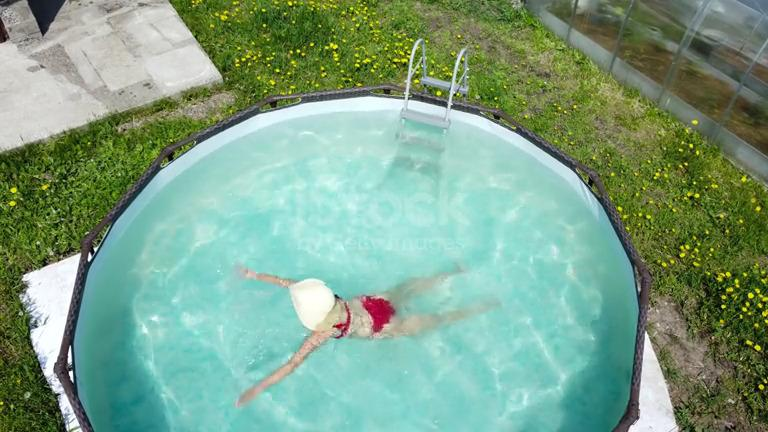Swimming: (182, 217, 502, 376)
